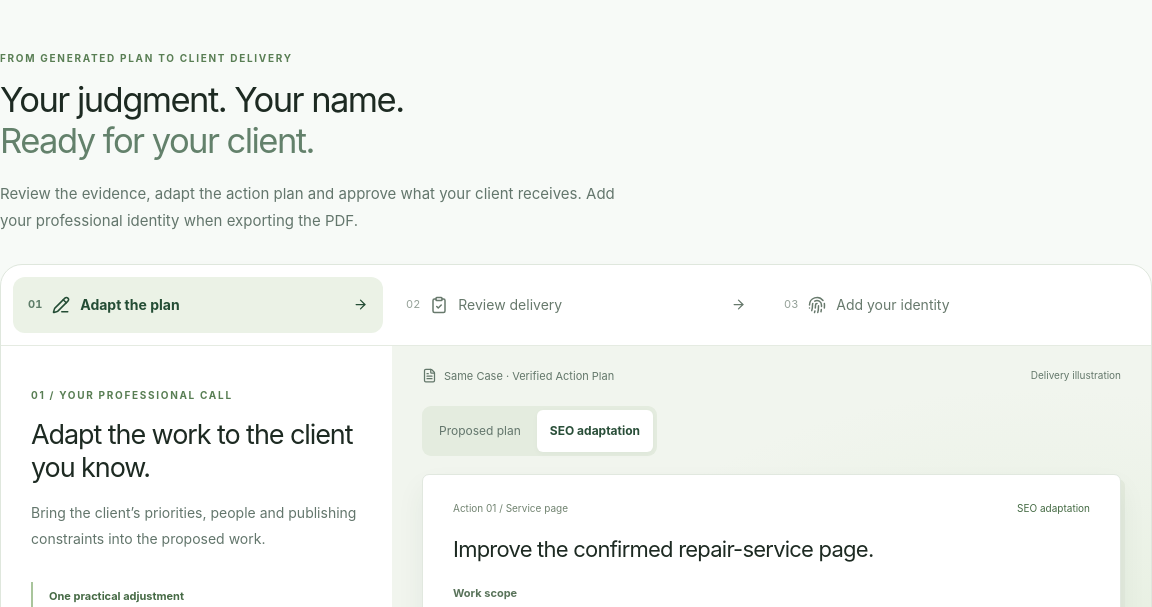
Test: client delivery showcase › compares export identity without implying full white-label or persistent share branding
What coordinates should you click on to do the following:
click the tab "03 Add your identity"
I would click on:
 (893, 305)
Its box is [769,277,1139,333].
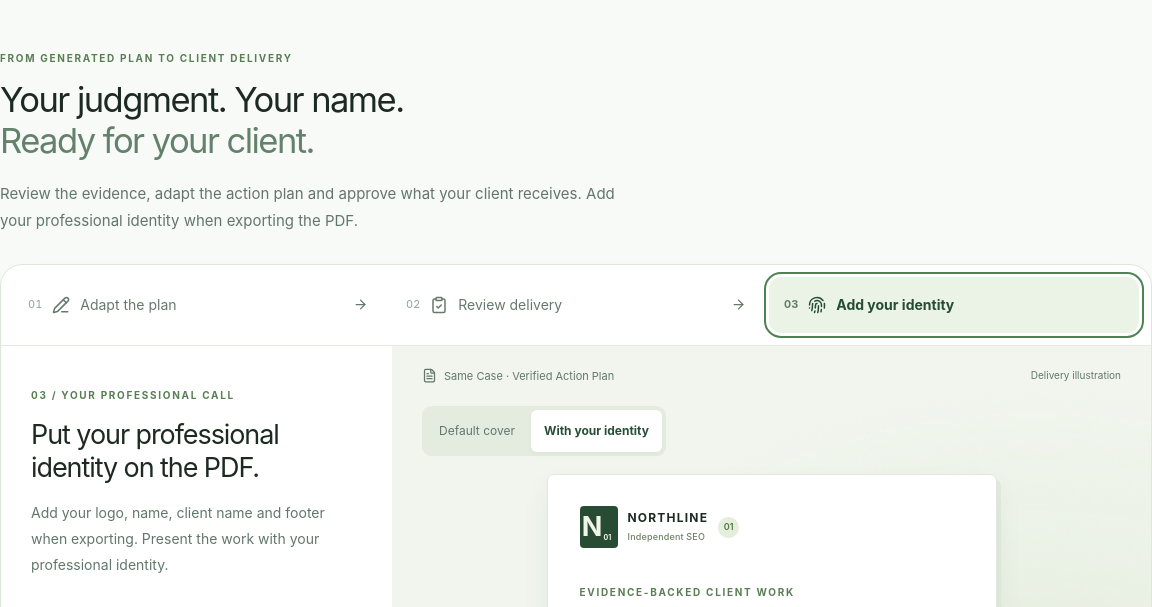
What coordinates should you click on to do the following:
click the button "Default cover"
I would click on:
 (477, 431)
Its box is [426,410,528,452].
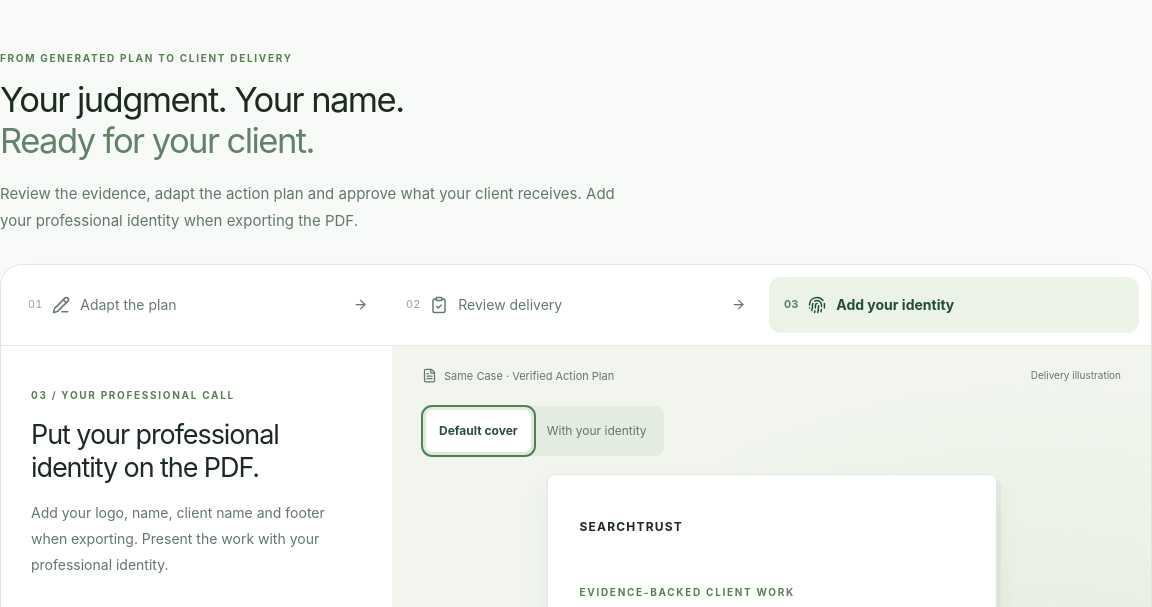
What coordinates should you click on to do the following:
click the button "With your identity"
I would click on:
 (597, 431)
Its box is [534,410,660,452].
(page scrolled)
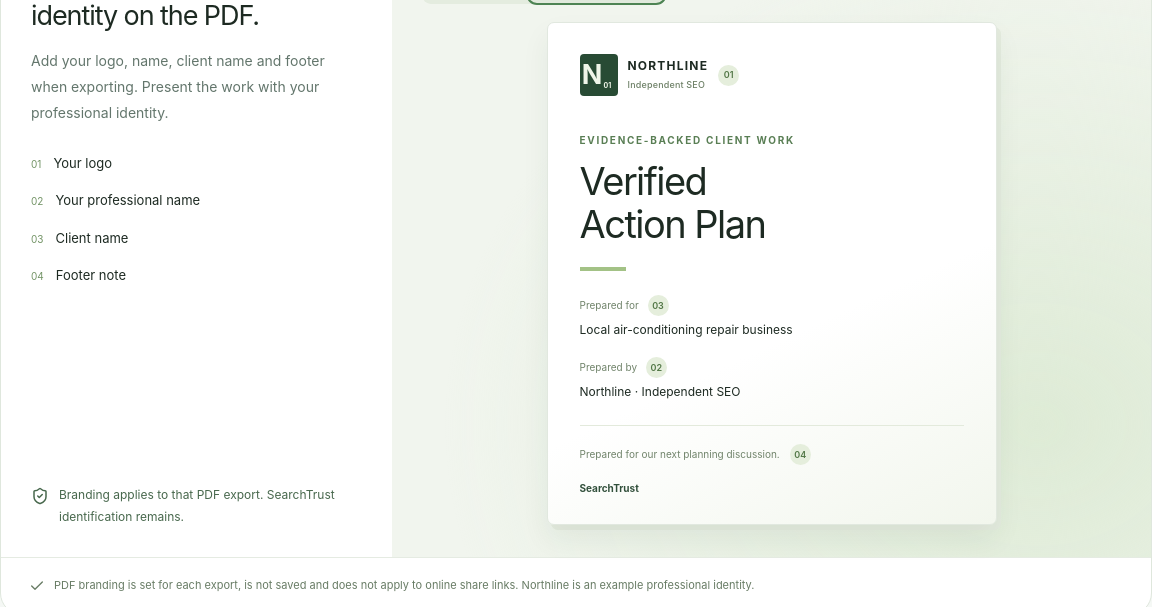
Now the text "Northline · Independent SEO" is shown, box [580,384,740,399]
